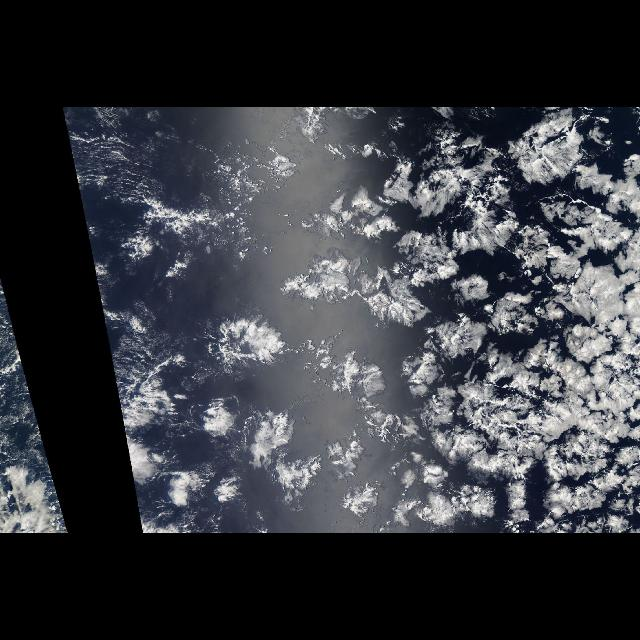Flower: (118, 124, 640, 534)
Sugar: (66, 128, 150, 202)
